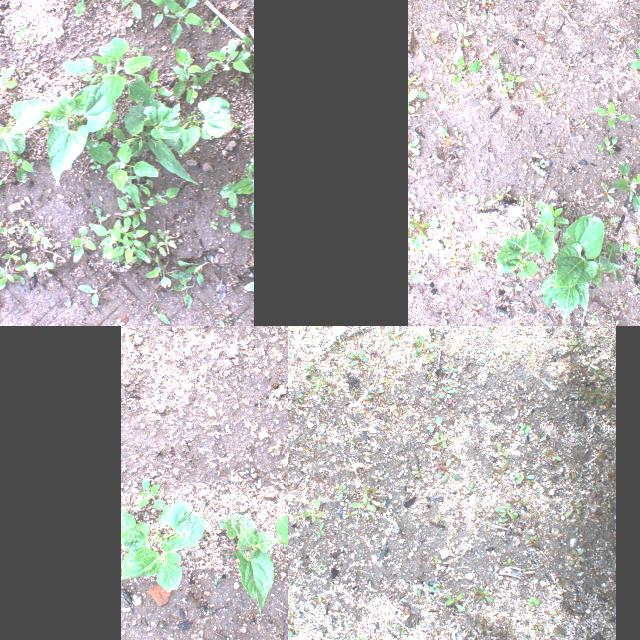crop: (92, 64, 235, 184), (538, 215, 622, 319), (120, 497, 206, 589), (41, 86, 114, 184), (58, 34, 156, 104), (222, 513, 276, 615), (497, 206, 557, 278), (0, 97, 52, 165), (59, 0, 142, 18), (470, 240, 486, 270)
weed: (86, 181, 154, 263), (85, 134, 158, 192), (210, 158, 252, 240), (170, 44, 212, 108), (206, 29, 252, 86), (149, 0, 201, 45), (171, 256, 209, 310), (609, 161, 640, 211), (67, 220, 95, 266), (74, 280, 108, 312), (18, 216, 52, 248), (596, 100, 634, 128), (146, 252, 172, 288), (148, 228, 184, 254), (145, 186, 183, 208), (539, 198, 569, 225), (452, 56, 483, 82), (411, 211, 439, 239), (0, 64, 17, 108), (145, 299, 171, 326), (8, 154, 34, 180), (112, 0, 144, 21), (494, 500, 518, 528), (136, 479, 158, 509), (412, 334, 434, 364), (306, 370, 330, 396), (0, 262, 22, 290), (12, 254, 38, 276), (435, 458, 461, 480), (10, 25, 36, 45), (0, 240, 24, 260), (410, 254, 426, 284), (443, 591, 467, 611), (302, 498, 322, 522), (362, 483, 382, 507), (346, 348, 368, 369), (427, 428, 448, 449), (200, 14, 222, 34), (596, 134, 618, 154), (532, 82, 556, 100), (456, 19, 472, 46), (236, 194, 248, 228), (36, 254, 54, 276), (216, 274, 228, 306), (209, 313, 238, 326), (385, 326, 403, 346), (580, 384, 600, 402), (444, 235, 464, 252), (348, 499, 376, 511), (466, 298, 482, 318), (438, 208, 454, 228), (599, 184, 615, 204), (440, 91, 456, 111), (474, 586, 494, 602), (492, 442, 508, 461), (478, 0, 493, 20), (604, 214, 622, 230), (426, 415, 444, 431), (566, 498, 582, 516), (633, 228, 640, 267), (78, 200, 94, 217), (499, 284, 525, 294), (592, 443, 608, 459), (589, 364, 605, 380), (629, 46, 640, 69), (520, 192, 534, 210), (533, 156, 547, 174), (498, 81, 512, 99), (435, 55, 449, 73), (408, 86, 417, 114), (570, 547, 584, 565), (496, 461, 510, 479), (444, 376, 458, 394), (514, 472, 534, 484), (436, 386, 456, 398), (0, 222, 15, 237), (606, 241, 620, 257), (311, 433, 325, 449), (0, 166, 6, 203), (455, 0, 472, 13), (105, 315, 125, 326), (442, 254, 464, 264), (542, 448, 562, 459), (428, 27, 440, 45), (333, 364, 345, 381), (537, 33, 557, 43), (504, 71, 524, 81), (431, 554, 442, 572), (544, 102, 558, 116), (200, 178, 212, 194), (408, 234, 420, 250), (486, 193, 502, 205), (480, 248, 492, 264), (594, 392, 610, 404), (436, 125, 449, 139), (464, 481, 478, 494), (410, 136, 420, 154), (452, 129, 462, 147), (490, 50, 500, 68), (224, 544, 234, 562), (482, 616, 491, 636), (366, 390, 384, 400), (329, 342, 345, 353), (482, 358, 493, 374), (336, 484, 346, 501), (240, 278, 252, 292), (208, 218, 220, 232), (564, 56, 576, 70), (526, 534, 540, 546), (532, 432, 546, 444), (303, 364, 317, 376), (340, 509, 358, 518), (435, 82, 445, 98), (414, 588, 424, 604), (524, 596, 540, 606), (314, 522, 324, 538), (378, 376, 394, 386), (500, 185, 512, 198), (440, 311, 450, 326), (620, 292, 628, 310), (566, 338, 578, 350), (627, 7, 640, 18), (546, 143, 560, 153), (579, 116, 589, 130), (495, 616, 509, 626), (288, 393, 302, 403), (410, 466, 424, 476), (443, 364, 457, 374), (494, 398, 504, 412), (518, 498, 532, 508), (502, 346, 510, 362), (463, 78, 475, 88), (408, 72, 418, 84), (292, 508, 304, 518), (318, 469, 328, 481), (434, 512, 444, 524), (471, 507, 483, 517), (530, 624, 544, 632), (316, 593, 324, 607), (386, 421, 394, 435), (609, 316, 620, 326), (417, 89, 428, 99), (451, 451, 461, 462), (371, 473, 384, 481), (554, 625, 564, 635), (548, 610, 558, 620), (429, 584, 439, 594), (479, 578, 489, 588), (502, 556, 512, 566), (510, 496, 520, 506), (520, 424, 530, 434), (485, 326, 495, 336), (629, 285, 640, 294), (453, 501, 462, 512), (450, 267, 466, 273), (447, 275, 459, 283), (396, 624, 404, 636), (551, 576, 559, 588), (431, 392, 439, 404), (573, 387, 581, 398), (484, 225, 496, 232), (607, 390, 613, 404), (454, 512, 464, 520), (358, 396, 368, 404), (488, 473, 498, 481), (349, 387, 357, 397), (575, 340, 583, 350), (526, 520, 536, 528), (288, 608, 293, 623), (564, 472, 576, 478), (364, 362, 372, 371), (348, 439, 358, 446), (320, 422, 328, 430), (364, 406, 372, 414), (530, 513, 538, 521), (498, 71, 504, 81), (512, 380, 518, 390), (515, 321, 526, 326), (407, 204, 413, 212), (387, 622, 393, 630), (353, 486, 357, 498), (536, 530, 542, 538), (400, 396, 408, 402), (418, 406, 426, 412), (448, 399, 456, 405), (510, 432, 516, 440), (355, 636, 365, 640), (310, 566, 316, 572), (360, 516, 368, 520), (521, 566, 525, 572), (288, 510, 290, 520), (412, 396, 414, 400)
